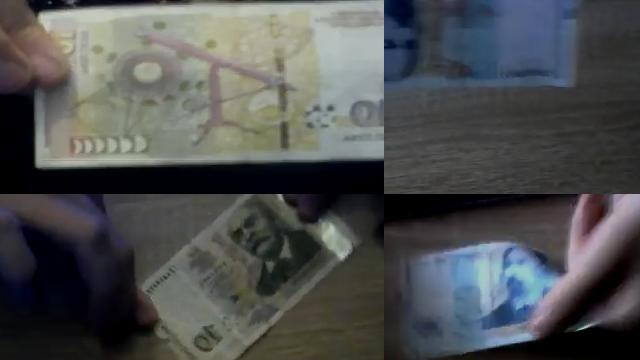10leva: (142, 194, 378, 360), (342, 97, 384, 138)
20leva: (384, 240, 564, 360), (384, 0, 577, 91)
